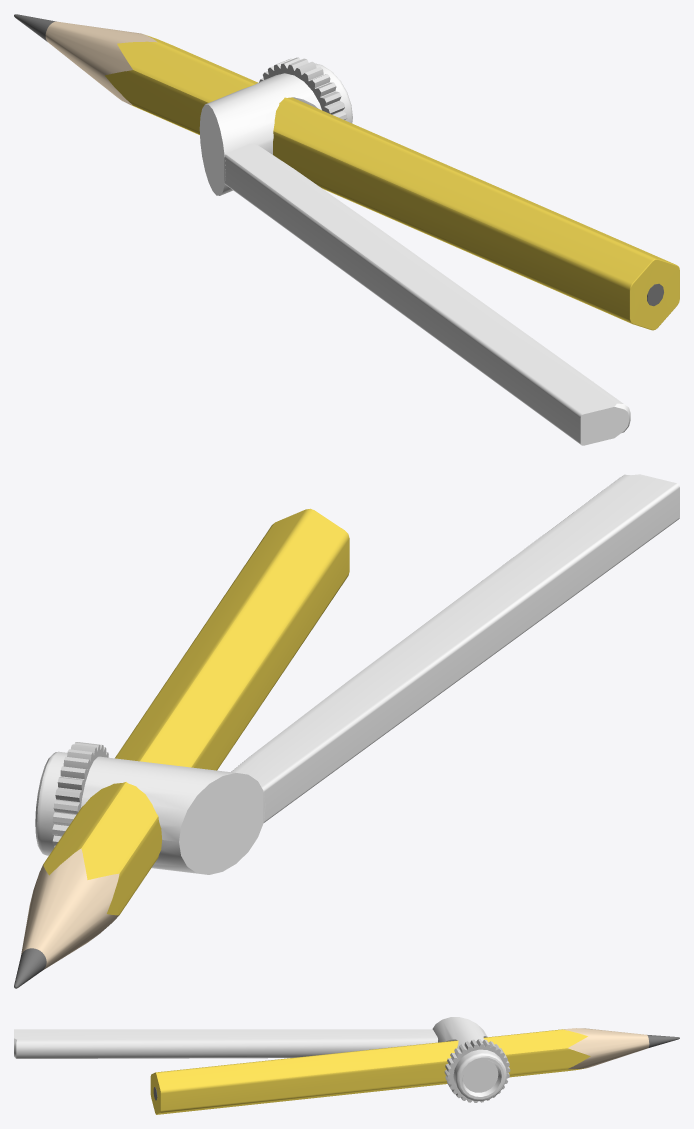
File: compass_right_hand.glb
3 renders of one model, top to bottom at view 1: azimuth 30°, elevation 25°; view 2: azimuth 150°, elevation 25°; view 3: azimuth 270°, elevation 25°, orthographic. The views are drawn at different scales.
Visible parts, largest first — view 1: polySurface6, left_hand, polySurface4, right_ring; view 2: left_hand, polySurface6, polySurface4, right_ring, polySurface5; view 3: polySurface6, left_hand, polySurface4, right_ring, polySurface5.
Part boxes in pixels (left/top/right/bottom): polySurface6: left=105, top=35, right=679, bottom=330; left_hand: left=199, top=63, right=630, bottom=445; polySurface4: left=45, top=21, right=157, bottom=105; right_ring: left=259, top=57, right=347, bottom=119; left_hand: left=35, top=474, right=679, bottom=874; polySurface6: left=43, top=508, right=349, bottom=915; polySurface4: left=21, top=848, right=119, bottom=969; right_ring: left=52, top=742, right=108, bottom=847; polySurface5: left=14, top=948, right=46, bottom=988; polySurface6: left=150, top=1029, right=590, bottom=1114; left_hand: left=14, top=1017, right=506, bottom=1101; polySurface4: left=563, top=1028, right=649, bottom=1069; right_ring: left=444, top=1039, right=510, bottom=1102; polySurface5: left=647, top=1035, right=679, bottom=1047.
Size of the model in its own units: 0.025 by 0.0106 by 0.1092.
